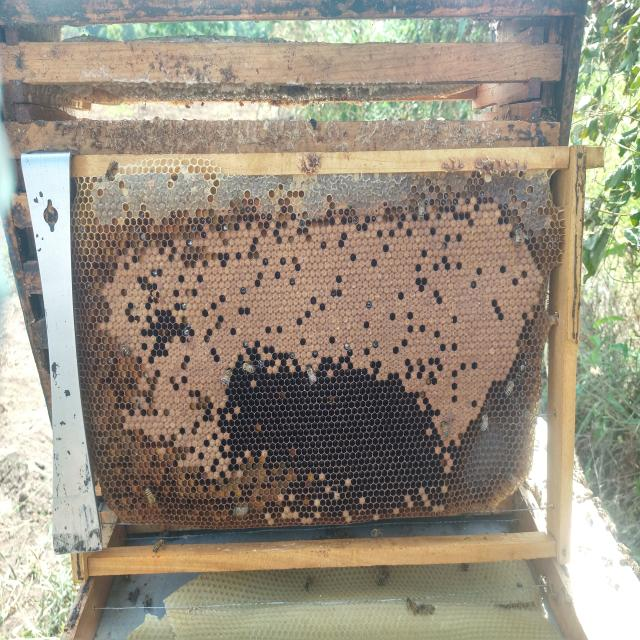cria: (100, 196, 543, 482)
marco: (72, 205, 561, 567)
